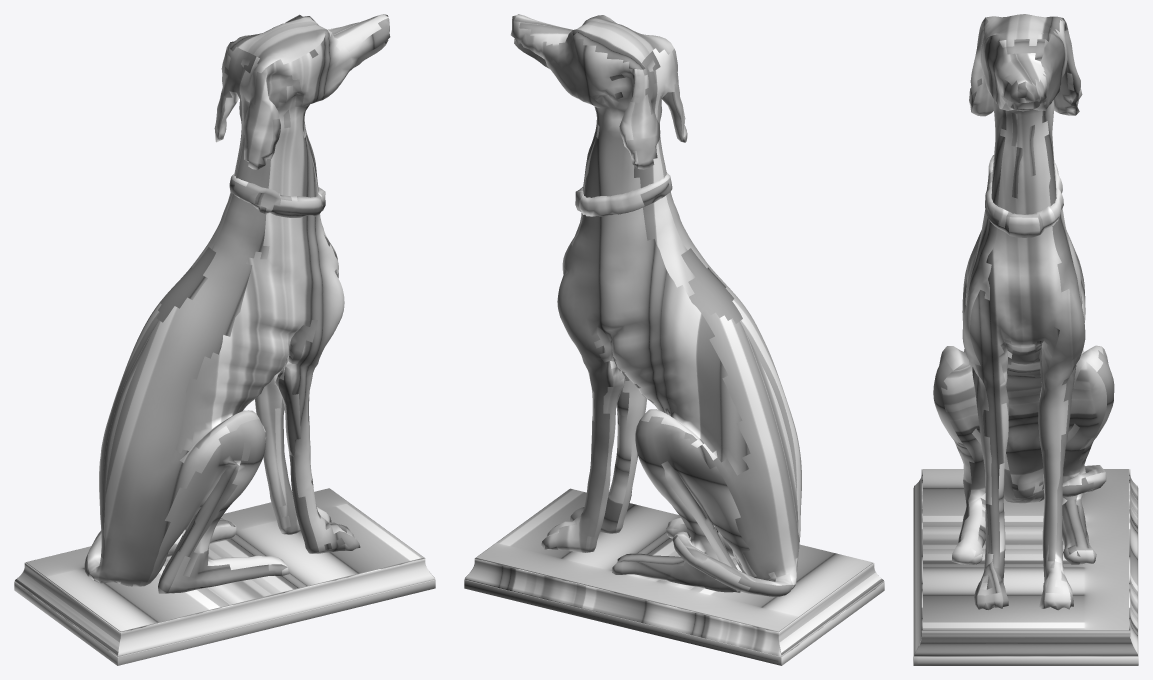
The picture shows the model from 3 angles, left to right: view 1: azimuth 30°, elevation 25°; view 2: azimuth 150°, elevation 25°; view 3: azimuth 270°, elevation 25°; orthographic projection. The views are drawn at different scales.
Visible parts, largest first — view 1: Doska Low; view 2: Doska Low; view 3: Doska Low.
Part boxes in pixels (left/top/right/bottom): Doska Low: left=14, top=14, right=435, bottom=665; Doska Low: left=464, top=14, right=884, bottom=665; Doska Low: left=913, top=14, right=1138, bottom=665.
Bounding box in the file's own units: 4164 × 6771 × 2318.
